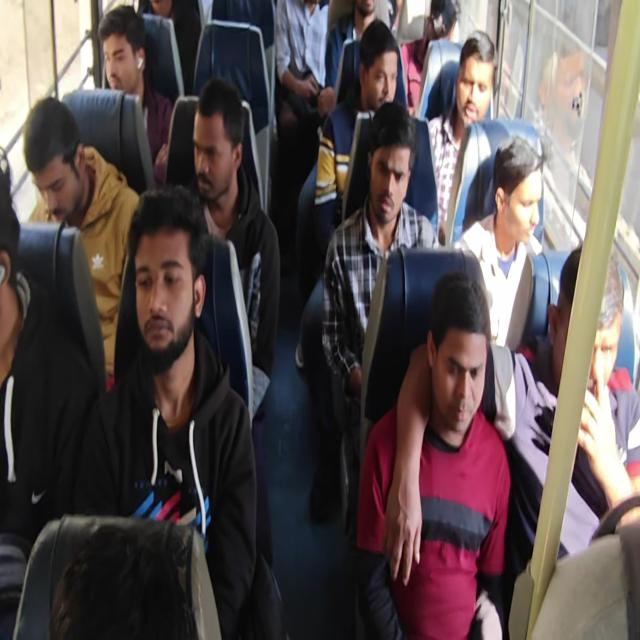person: (2, 1, 638, 638), (70, 183, 261, 638), (390, 245, 639, 581), (355, 271, 512, 638), (0, 155, 99, 637), (321, 100, 438, 418), (22, 95, 140, 391), (187, 76, 281, 426), (313, 19, 406, 249), (453, 134, 546, 351), (426, 29, 496, 246), (97, 3, 173, 185), (323, 0, 396, 110), (274, 0, 330, 141), (398, 0, 460, 116), (138, 0, 202, 96)
